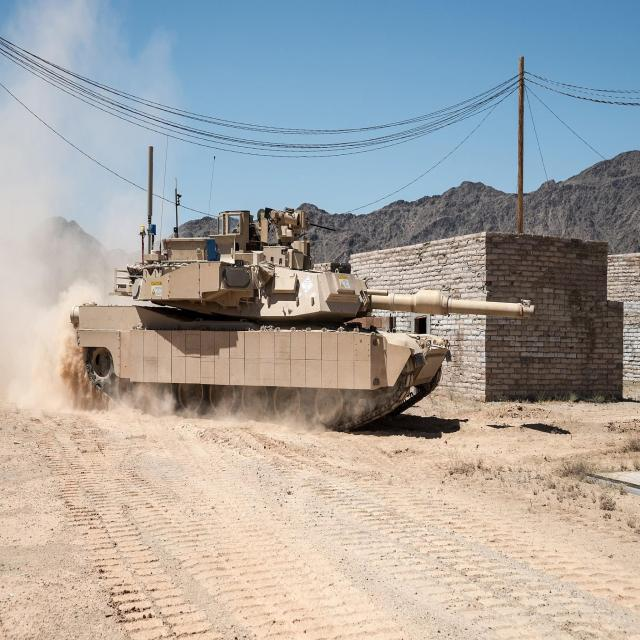Tanks: (40, 137, 556, 546)
